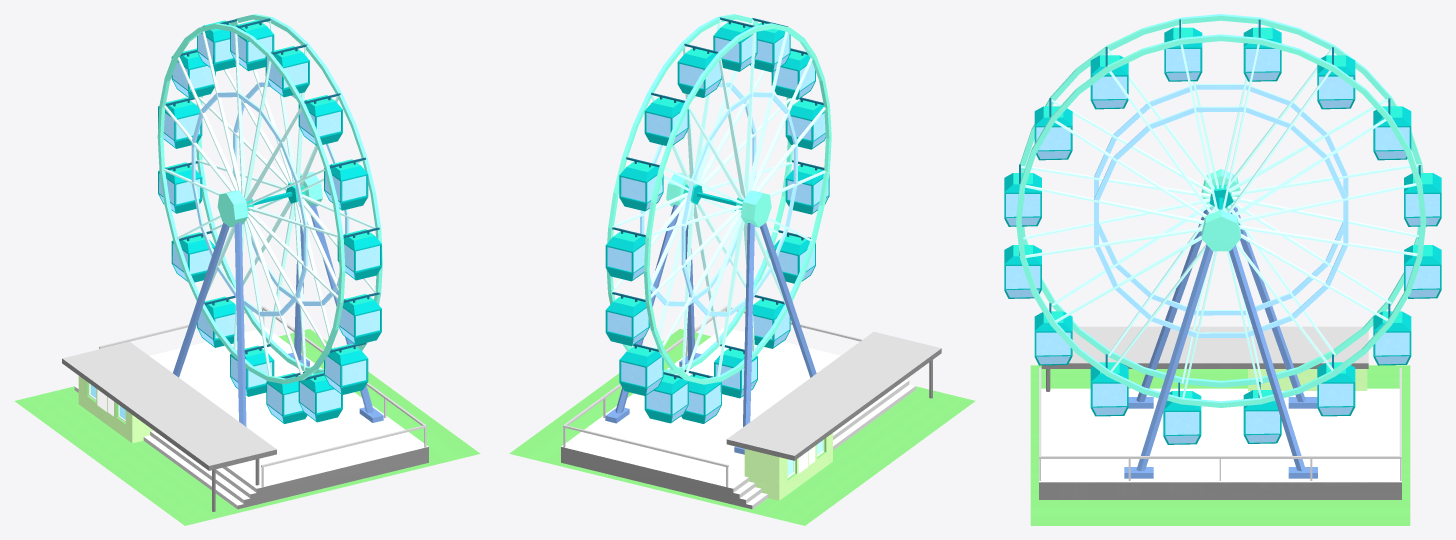
The model's file is landscape_entertainments.004.glb.
The picture shows the model from 3 angles, left to right: view 1: azimuth 30°, elevation 25°; view 2: azimuth 150°, elevation 25°; view 3: azimuth 270°, elevation 25°; orthographic projection. The views are drawn at different scales.
Visible parts, largest first — view 1: landscape_entertainments.004(Clone); view 2: landscape_entertainments.004(Clone); view 3: landscape_entertainments.004(Clone).
Boxes of the visible parts, x1,y1,x2,y2 form: landscape_entertainments.004(Clone): (14, 14, 480, 525); landscape_entertainments.004(Clone): (509, 14, 975, 525); landscape_entertainments.004(Clone): (1004, 14, 1441, 525).
Size of the model in its own units: 16 by 20.24 by 18.44.
1 material, 1 textured.
